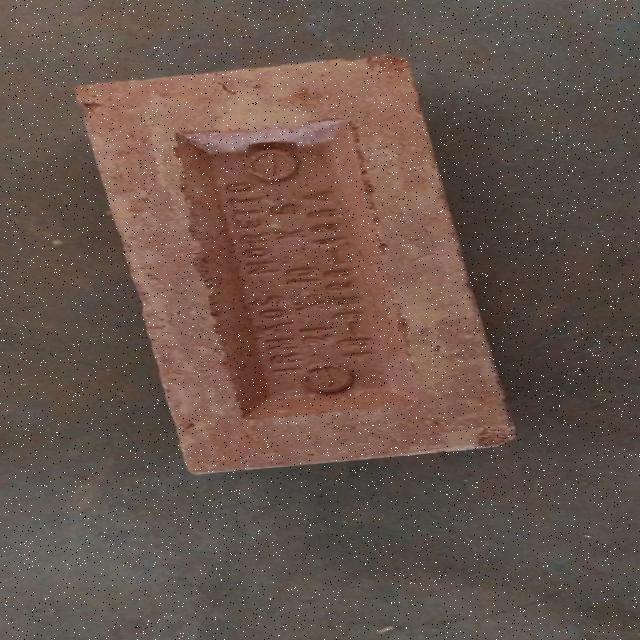bricks: (65, 54, 514, 475)
